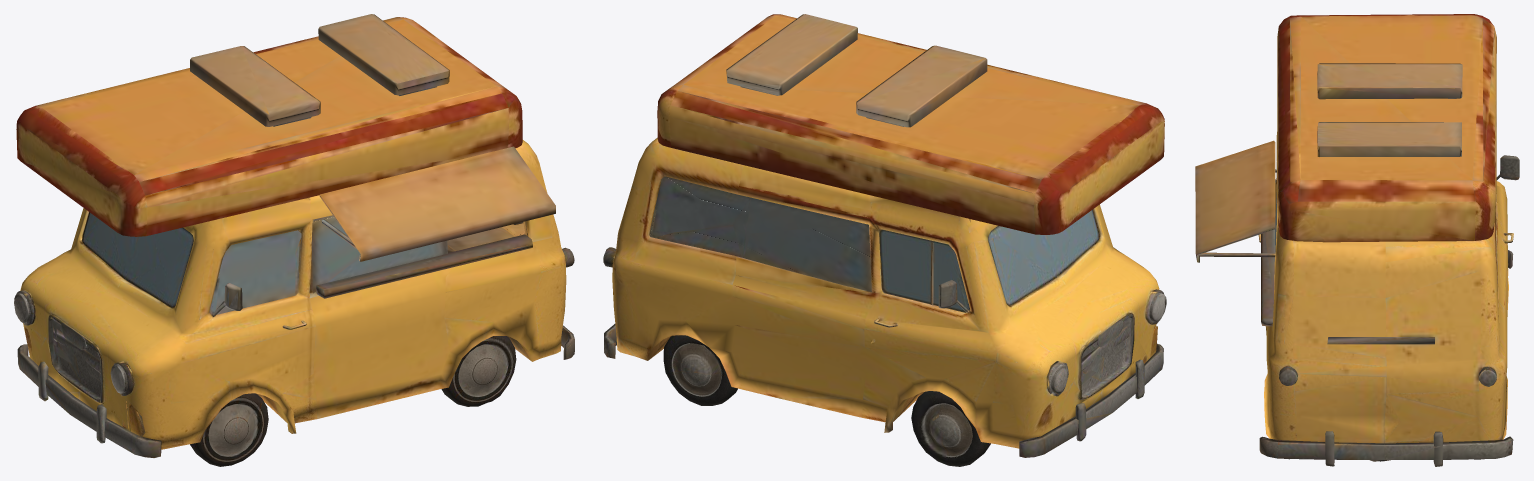
Rendered from food_truck.glb.
The picture shows the model from 3 angles, left to right: view 1: azimuth 30°, elevation 25°; view 2: azimuth 150°, elevation 25°; view 3: azimuth 270°, elevation 25°; orthographic projection. The views are drawn at different scales.
Bounding box in the file's own units: 3.73 × 2.6 × 2.51.
Materials: 1 (1 with a texture image).
